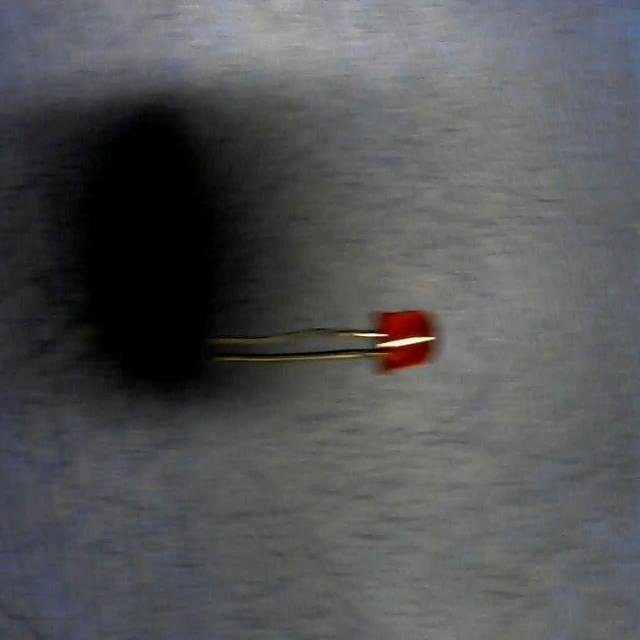LED: (219, 314, 433, 378)
